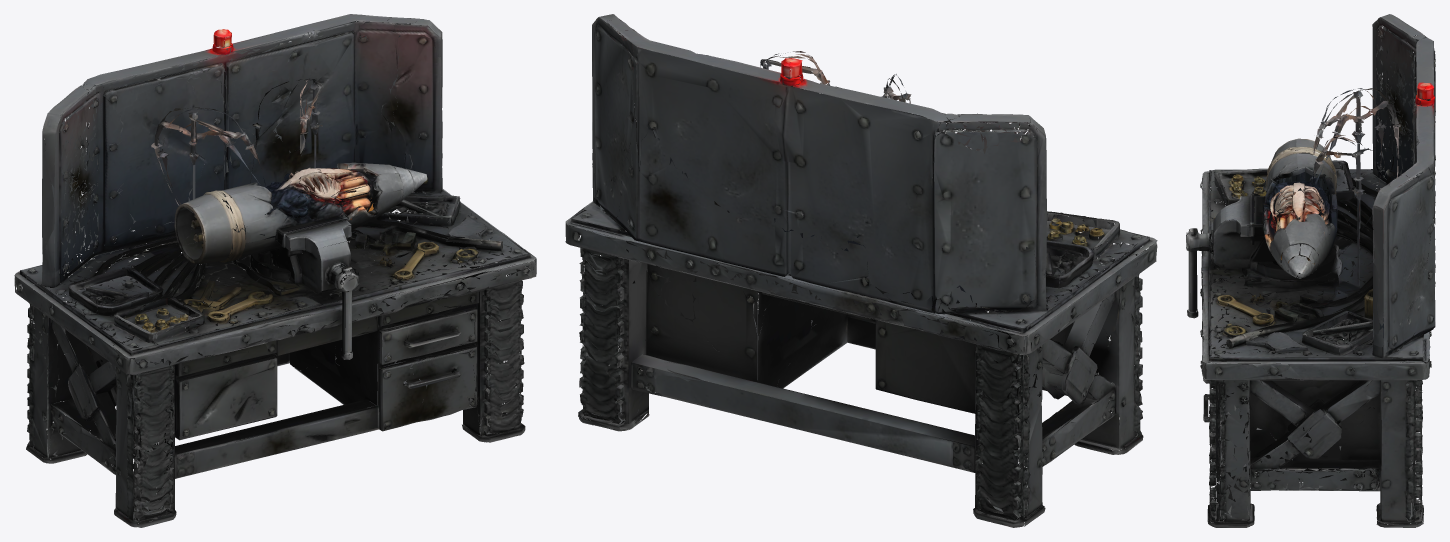
Rendered from vesper_ordnance_disarm_table.glb.
The picture shows the model from 3 angles, left to right: view 1: azimuth 30°, elevation 25°; view 2: azimuth 150°, elevation 25°; view 3: azimuth 270°, elevation 25°; orthographic projection. The views are drawn at different scales.
Parts seen in each view (by area): view 1: node_0; view 2: node_0; view 3: node_0.
Part boxes in pixels (<box>): node_0: <box>14,14,536,527</box>; node_0: <box>565,14,1157,527</box>; node_0: <box>1186,14,1435,527</box>.
Bounding box in the file's own units: 0.8882 × 0.7503 × 0.4814.
Materials: 1 (1 with a texture image).
